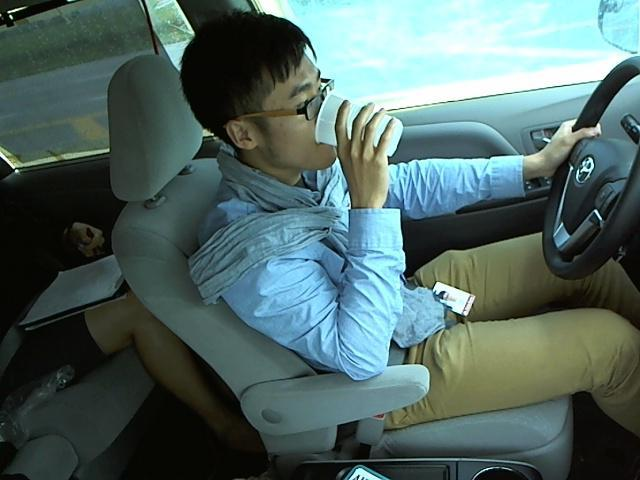Drinking: (226, 47, 405, 184)
